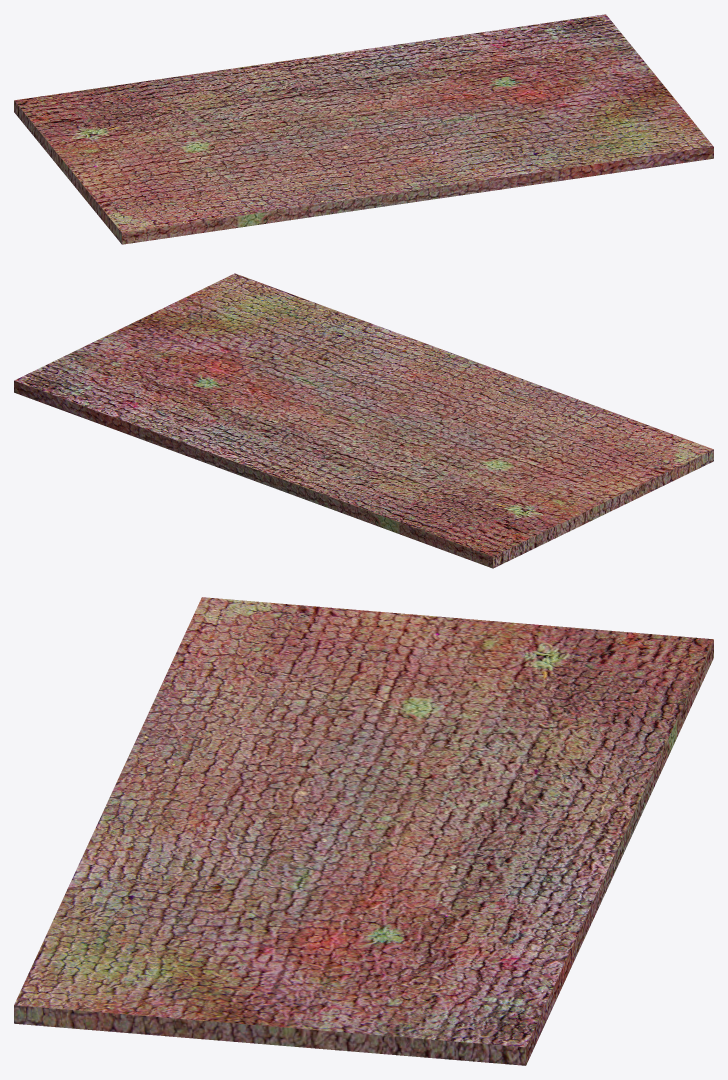
File: tufted_rug.FBX
3 renders of one model, top to bottom at view 1: azimuth 30°, elevation 25°; view 2: azimuth 150°, elevation 25°; view 3: azimuth 270°, elevation 25°, orthographic. The views are drawn at different scales.
Visible parts, largest first — view 1: Box004; view 2: Box004; view 3: Box004.
Part boxes in pixels (<box>): Box004: <box>14,14,713,244</box>; Box004: <box>14,273,713,568</box>; Box004: <box>14,597,713,1065</box>.
Size of the model in its own units: 175 by 3.34 by 115.
Materials: 1 (1 with a texture image).
